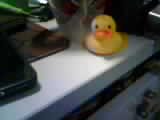duck: (76, 11, 129, 53)
